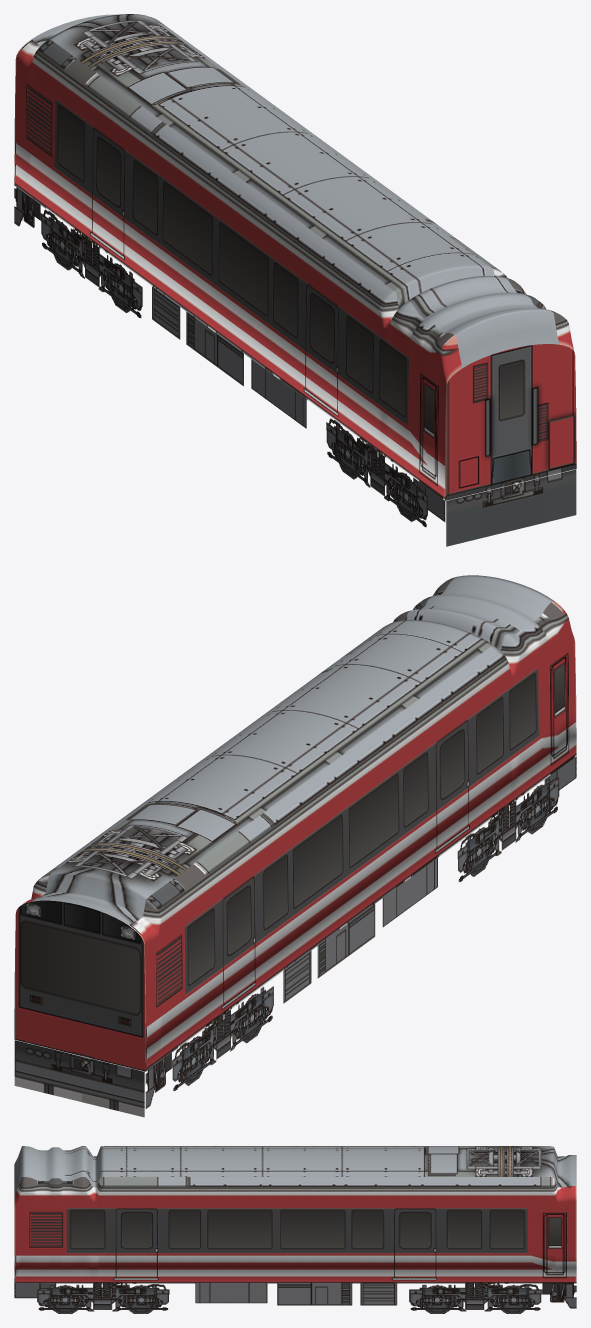
The model's file is car3.glb.
3 renders of one model, top to bottom at view 1: azimuth 30°, elevation 25°; view 2: azimuth 150°, elevation 25°; view 3: azimuth 270°, elevation 25°, orthographic. The views are drawn at different scales.
Visible parts, largest first — view 1: hakonetozan-2000; view 2: hakonetozan-2000; view 3: hakonetozan-2000.
Boxes of the visible parts, left/top/right/bottom form: hakonetozan-2000: left=14, top=14, right=576, bottom=546; hakonetozan-2000: left=14, top=575, right=576, bottom=1117; hakonetozan-2000: left=14, top=1146, right=576, bottom=1313.
Size of the model in its own units: 2.58 by 3.95 by 14.69.
Materials: 8 (7 with a texture image).
